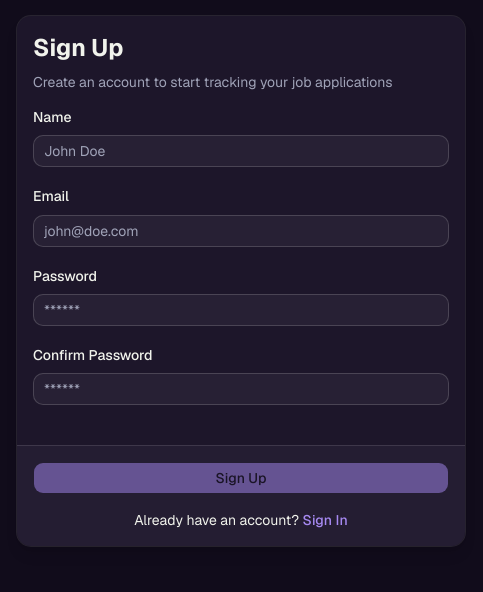
Scenario: SignUp › shows a validation error and keeps the button disabled when the email is invalid
Type "not-an-email" into the field labelled "Email" at (241, 230), box [33,214,449,246]
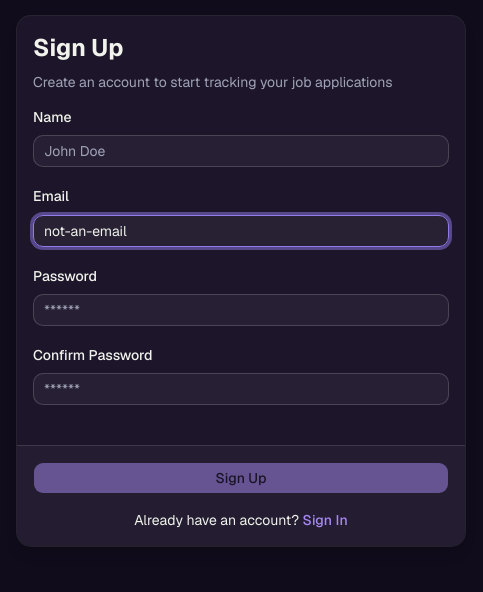
Press Tab
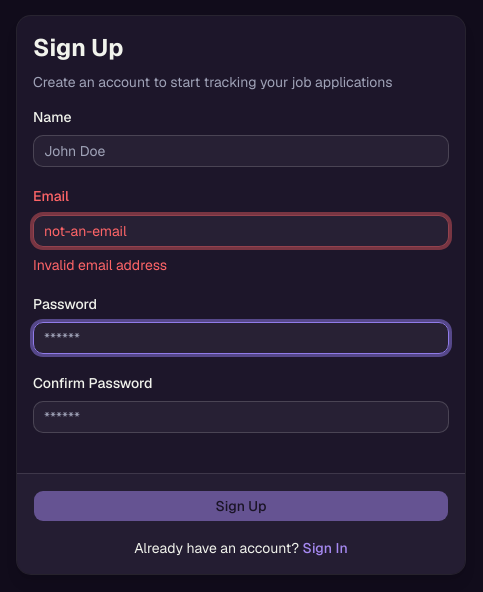
Expected: the button "Sign Up" is disabled, [33,490,449,522]
Expected: the text "Invalid" is shown, [33,256,167,274]
